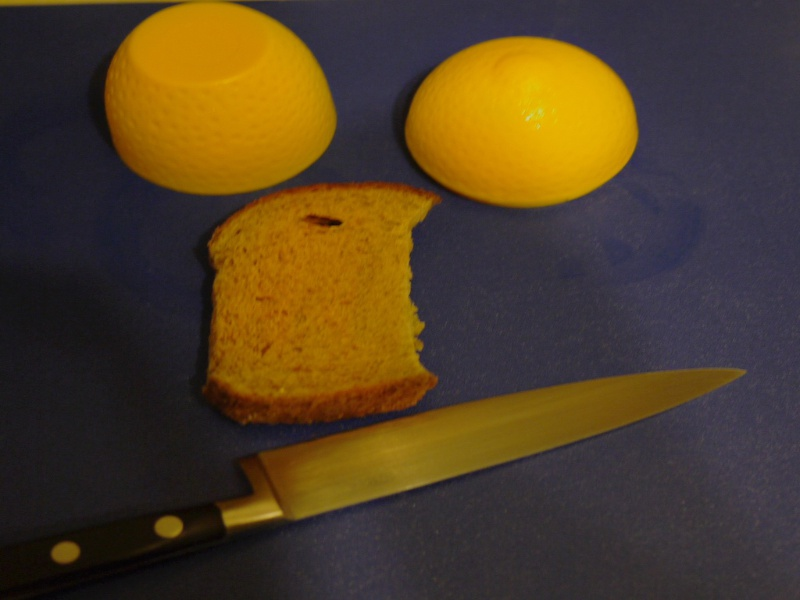knife: (1, 354, 750, 594)
